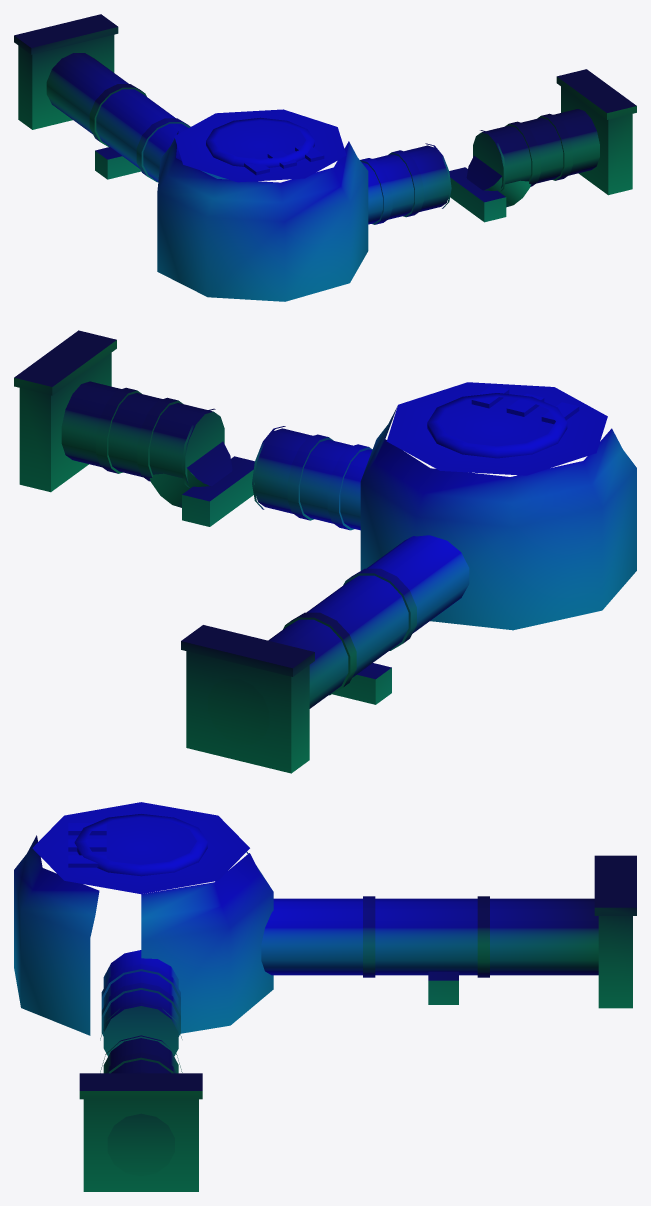
The model's file is cornerpipe_damaged.glb.
3 renders of one model, top to bottom at view 1: azimuth 30°, elevation 25°; view 2: azimuth 150°, elevation 25°; view 3: azimuth 270°, elevation 25°, orthographic. The views are drawn at different scales.
Parts seen in each view (by area): view 1: lod0; view 2: lod0; view 3: lod0.
Boxes of the visible parts, x1,y1,x2,y2 form: lod0: [14, 14, 636, 301]; lod0: [14, 330, 636, 773]; lod0: [14, 802, 636, 1191].
Size of what is drawn, in the model's own units: 16.29 by 4.32 by 16.21.
